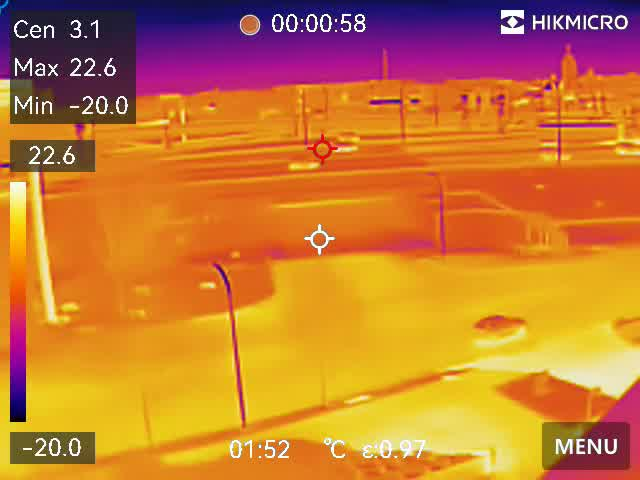vehicle: (470, 309, 533, 344), (284, 155, 325, 174), (613, 140, 640, 158), (333, 129, 364, 144), (326, 142, 361, 155)
